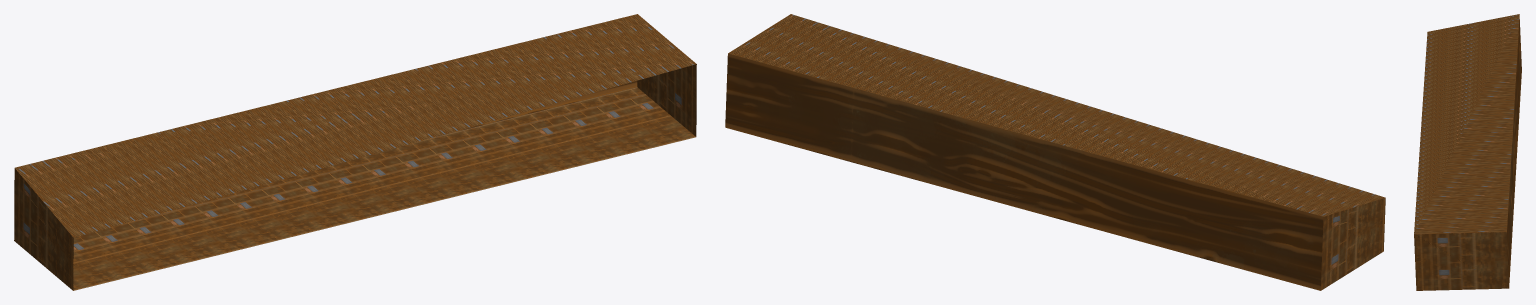
3 renders of one model, left to right at view 1: azimuth 30°, elevation 25°; view 2: azimuth 150°, elevation 25°; view 3: azimuth 270°, elevation 25°, orthographic. The views are drawn at different scales.
Visible parts, largest first — view 1: Cube.1991; view 2: Cube.1991; view 3: Cube.1991.
Boxes of the visible parts, x1,y1,x2,y2 form: Cube.1991: (14,14,696,290); Cube.1991: (725,14,1385,290); Cube.1991: (1414,14,1521,290).
Bounding box in the file's own units: 222 × 30.56 × 44.67.
1 material, 1 textured.
